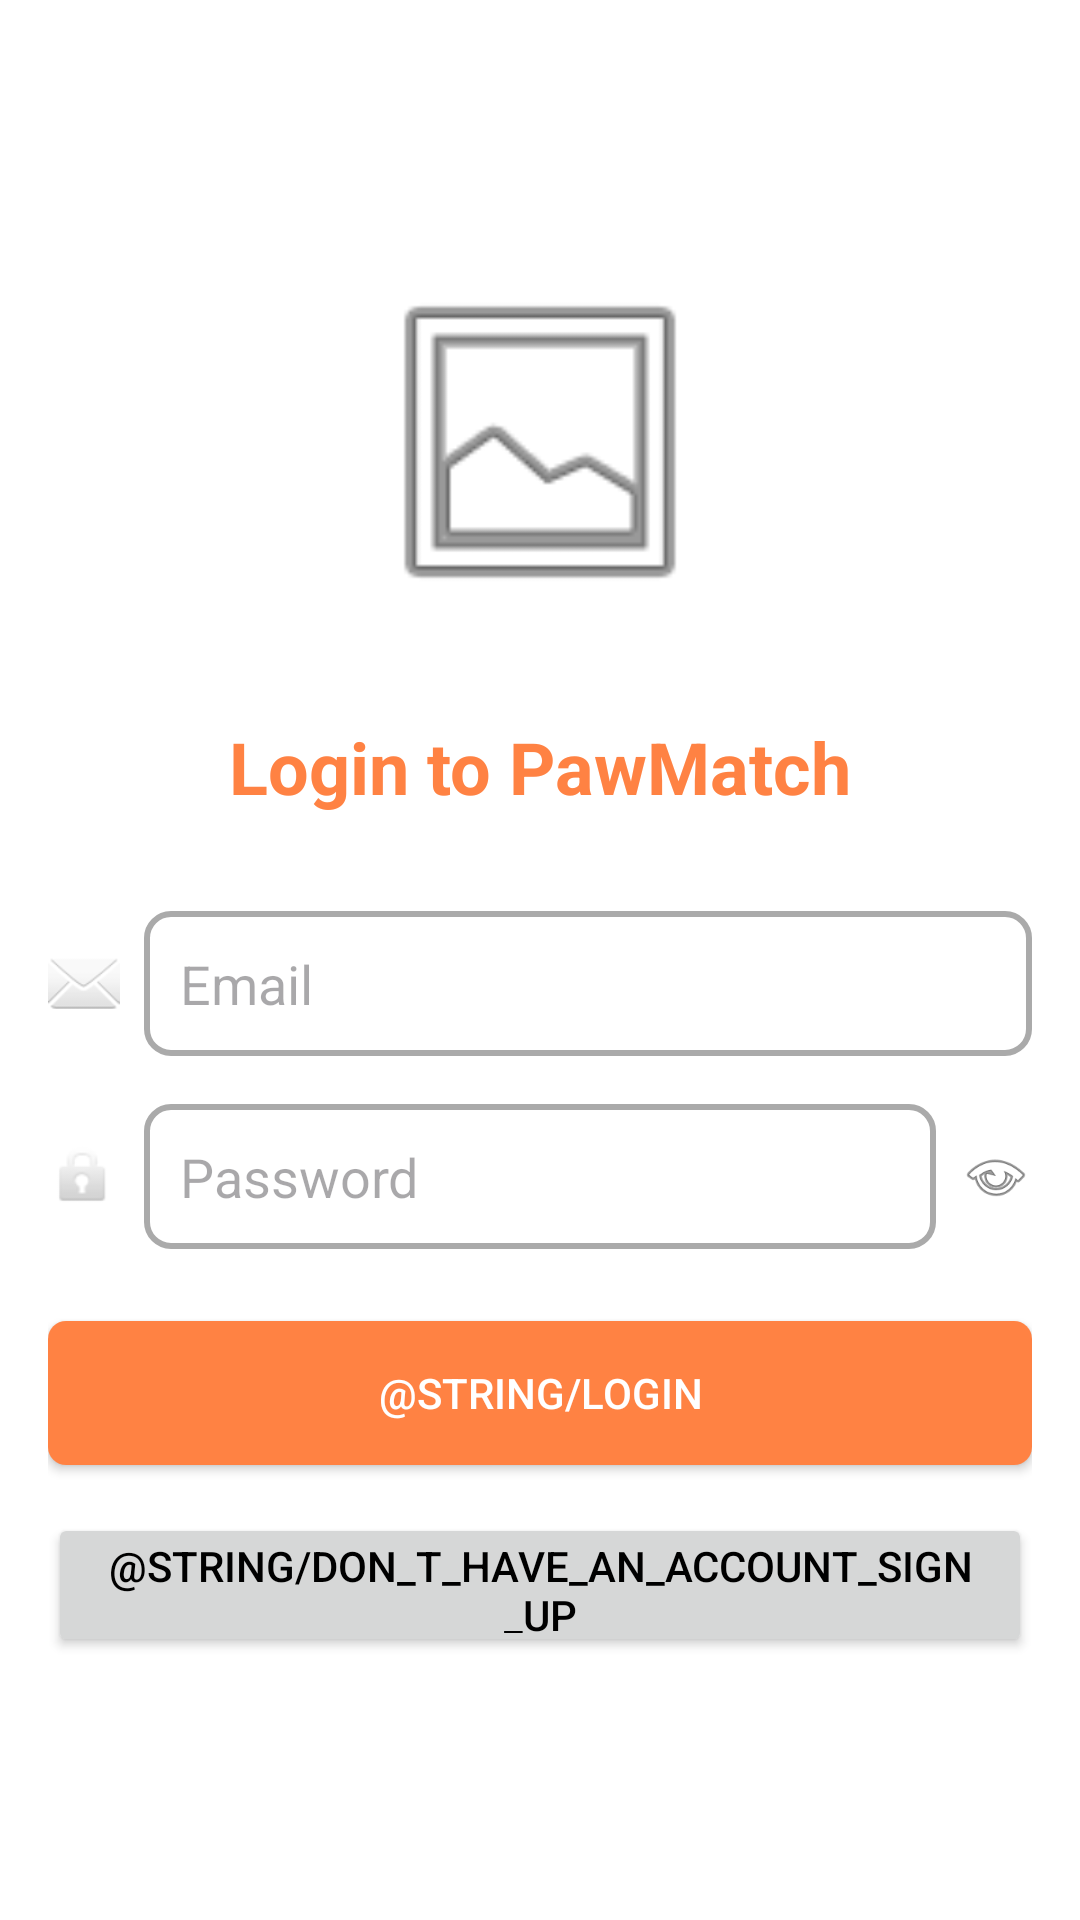

Screen size 1080px×1920px. Icon name, then its box in pixels as (x1, y1, x2, y2):
gallery: (404, 306, 676, 578)
